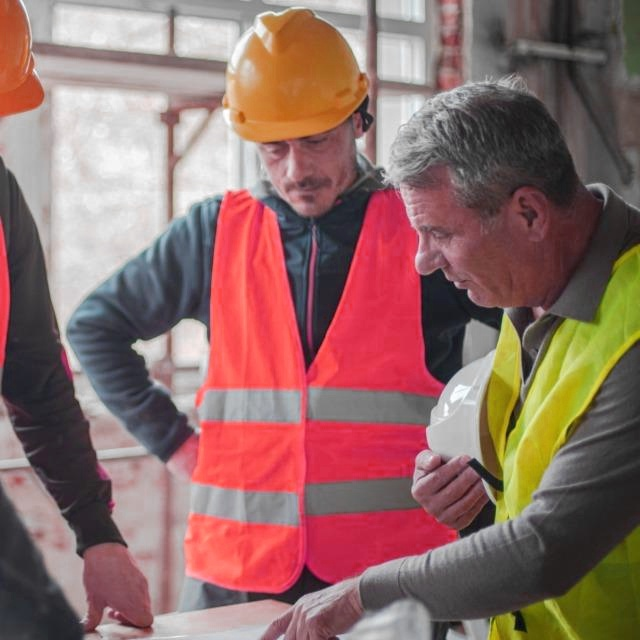Con_Casco: (217, 9, 372, 211)
Con_Chaleco: (182, 186, 419, 587)
Sin_Casco_Mascarrilla: (390, 83, 586, 308)
